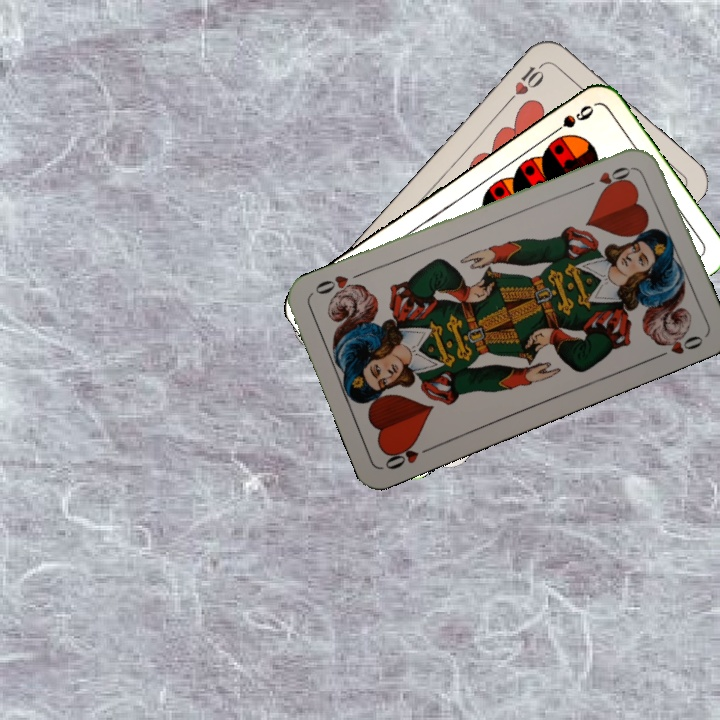H10: (503, 58, 548, 106)
HO: (380, 438, 437, 472), (579, 162, 637, 191)
S9: (544, 101, 597, 140)
